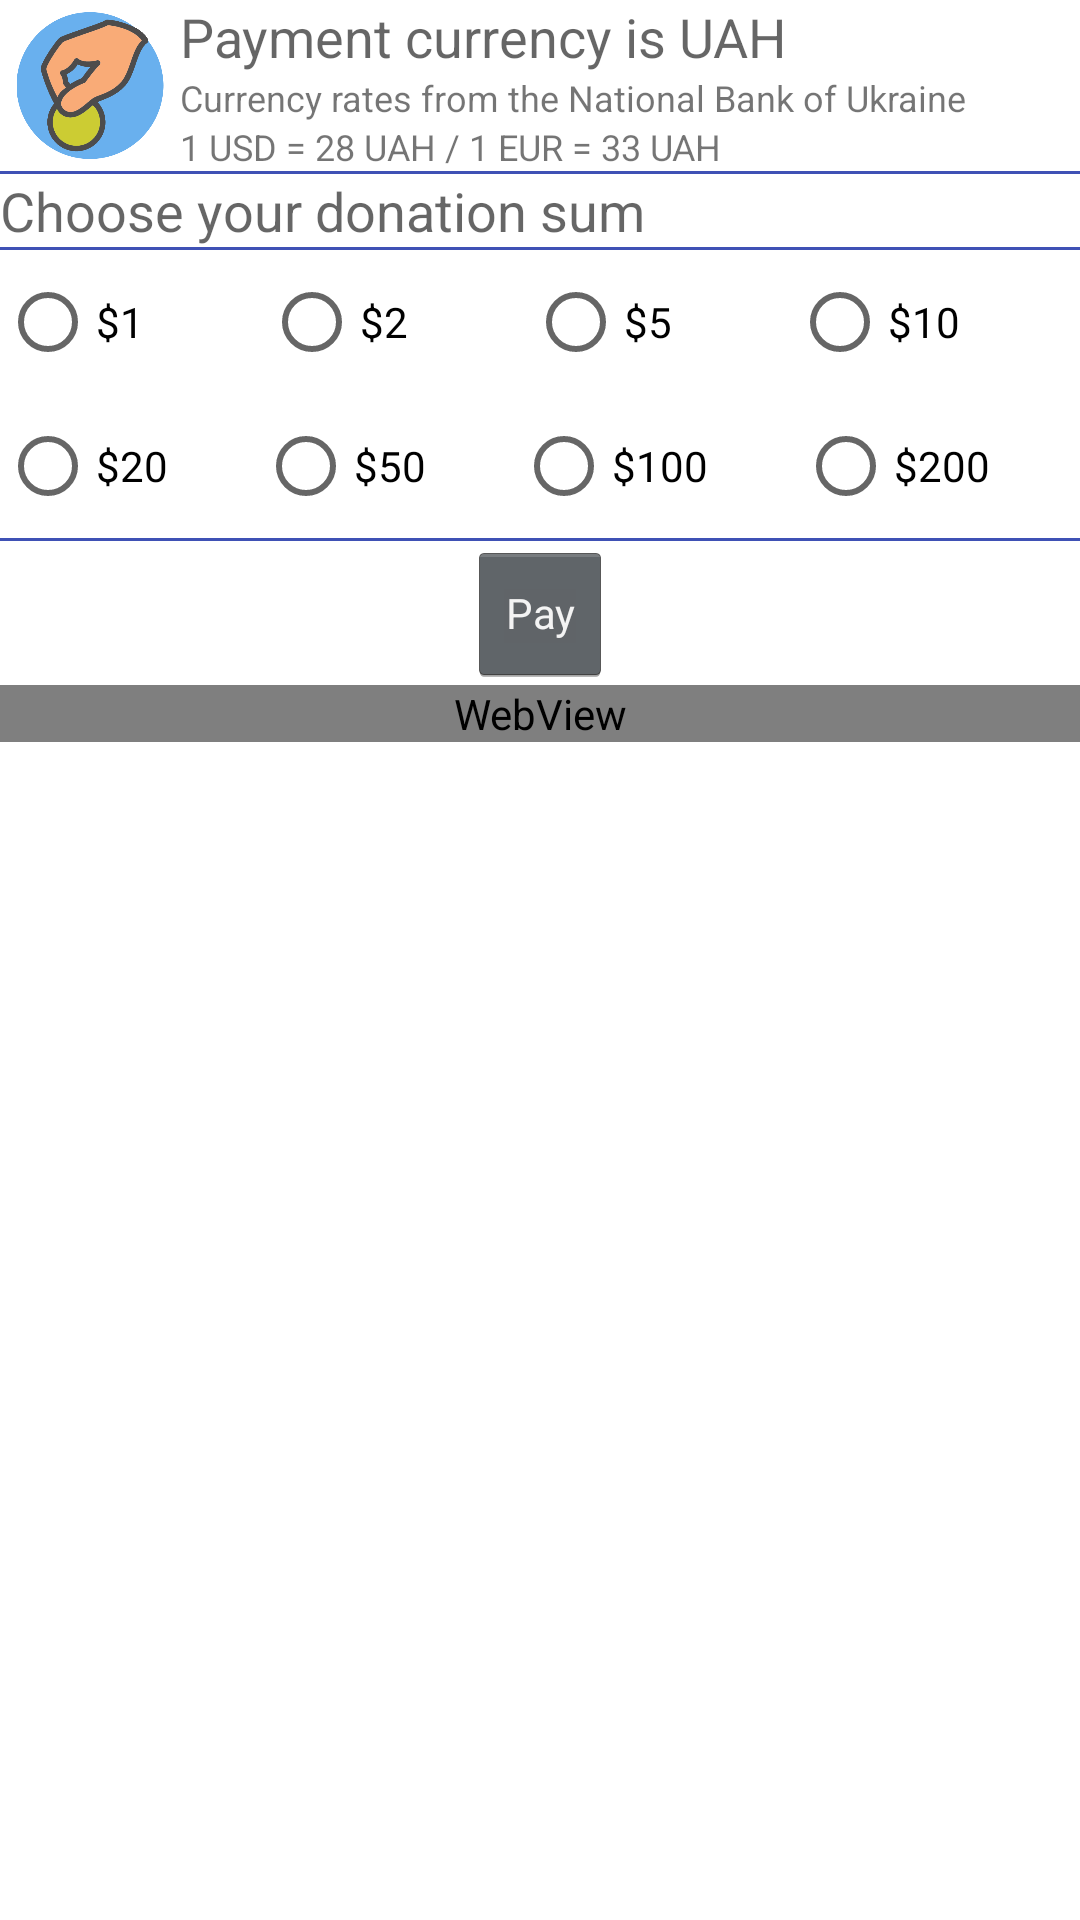

Screen size 1080w x 1920h. Icon name, then its box in pixels as (x1, y1, x2, y2):
donate: (17, 12, 164, 159)
